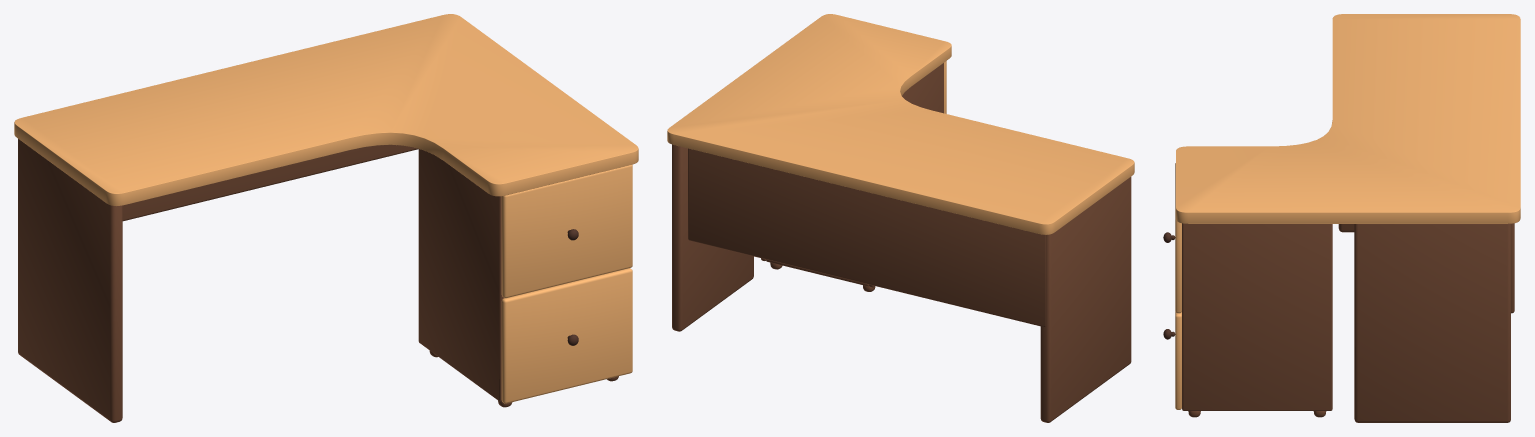
File: escrivaninha_l_gaveteiro_laranja.glb
3 views of the same model, side by side, from view 1: azimuth 30°, elevation 25°; view 2: azimuth 150°, elevation 25°; view 3: azimuth 270°, elevation 25° (orthographic). The views are drawn at different scales.
Visible parts, largest first — view 1: escrivaninha_l_gaveteiro_laranja, gaveta_1, gaveta_2; view 2: escrivaninha_l_gaveteiro_laranja; view 3: escrivaninha_l_gaveteiro_laranja, gaveta_2, gaveta_1.
Part boxes in pixels (box(x1,y1,x2,y2)): escrivaninha_l_gaveteiro_laranja: box(14, 14, 638, 422); gaveta_1: box(501, 268, 632, 403); gaveta_2: box(501, 165, 632, 298); escrivaninha_l_gaveteiro_laranja: box(667, 14, 1134, 422); escrivaninha_l_gaveteiro_laranja: box(1176, 14, 1520, 422); gaveta_2: box(1163, 163, 1181, 313); gaveta_1: box(1163, 312, 1181, 409).
Size of the model in its own units: 1.5 by 0.75 by 1.14.
Materials: 1 (1 with a texture image).
